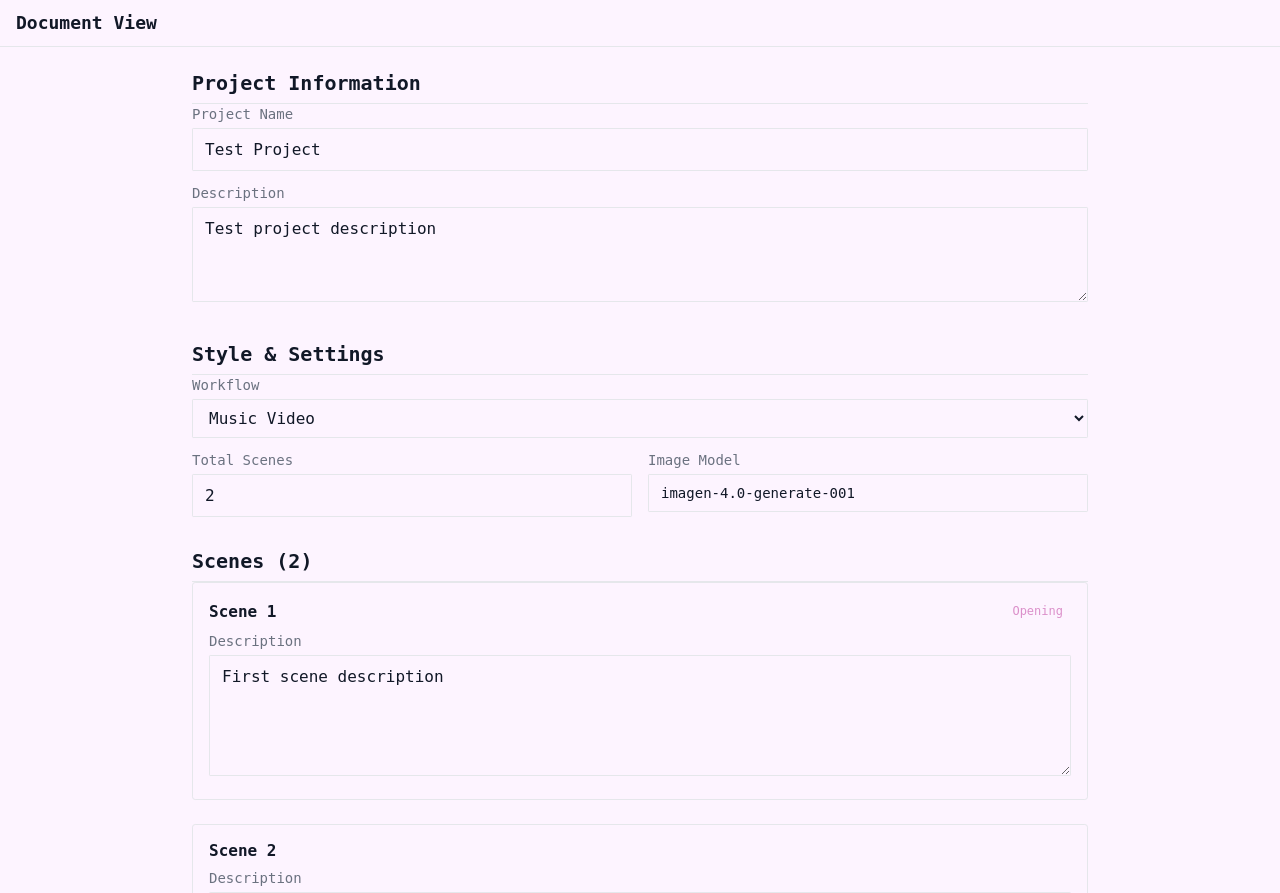
Test: DocumentView - Document Content Display › Standard text editing operations › should support paste operation
Clear the field labelled "Project Name". click: (640, 149)
box: left=192, top=128, right=1088, bottom=171
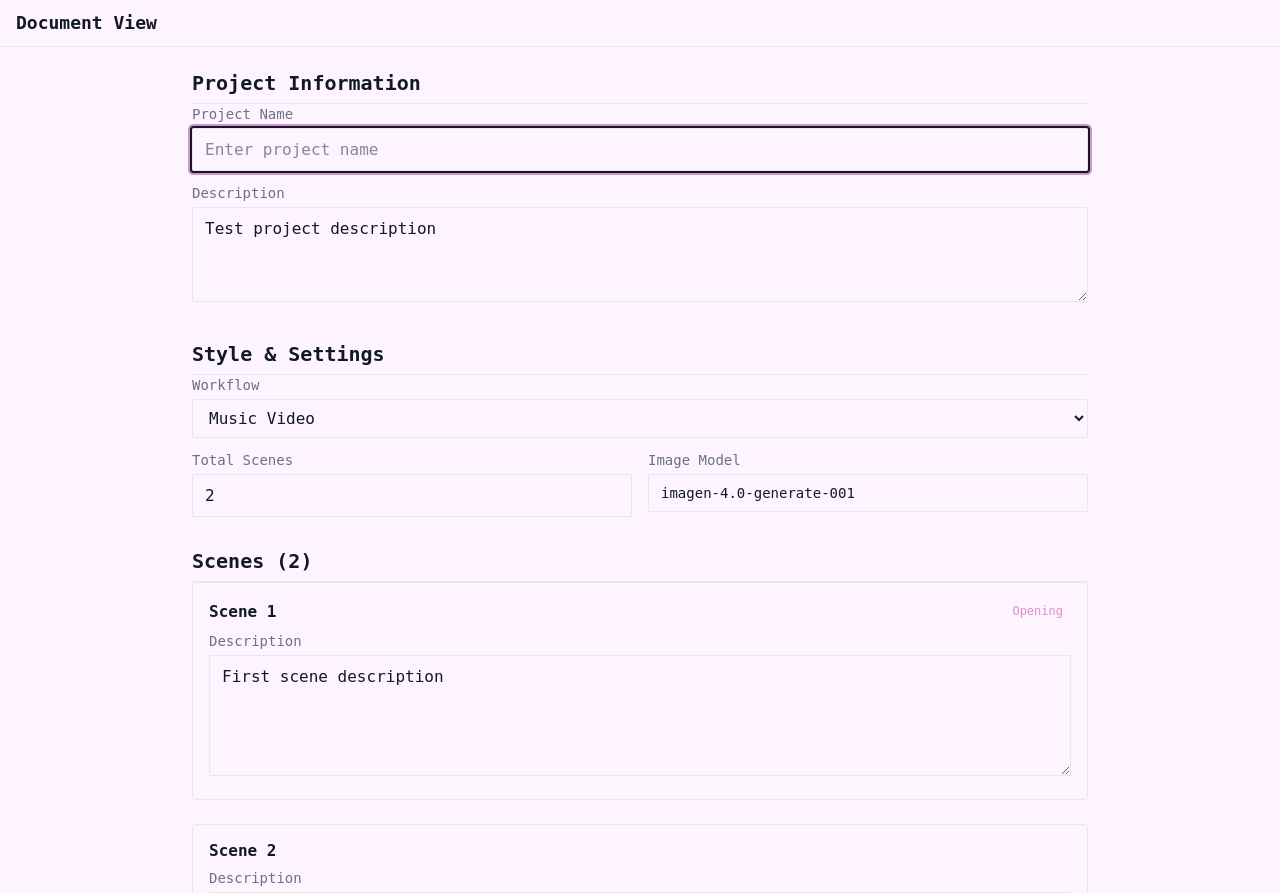
Type keys "Pasted Text"
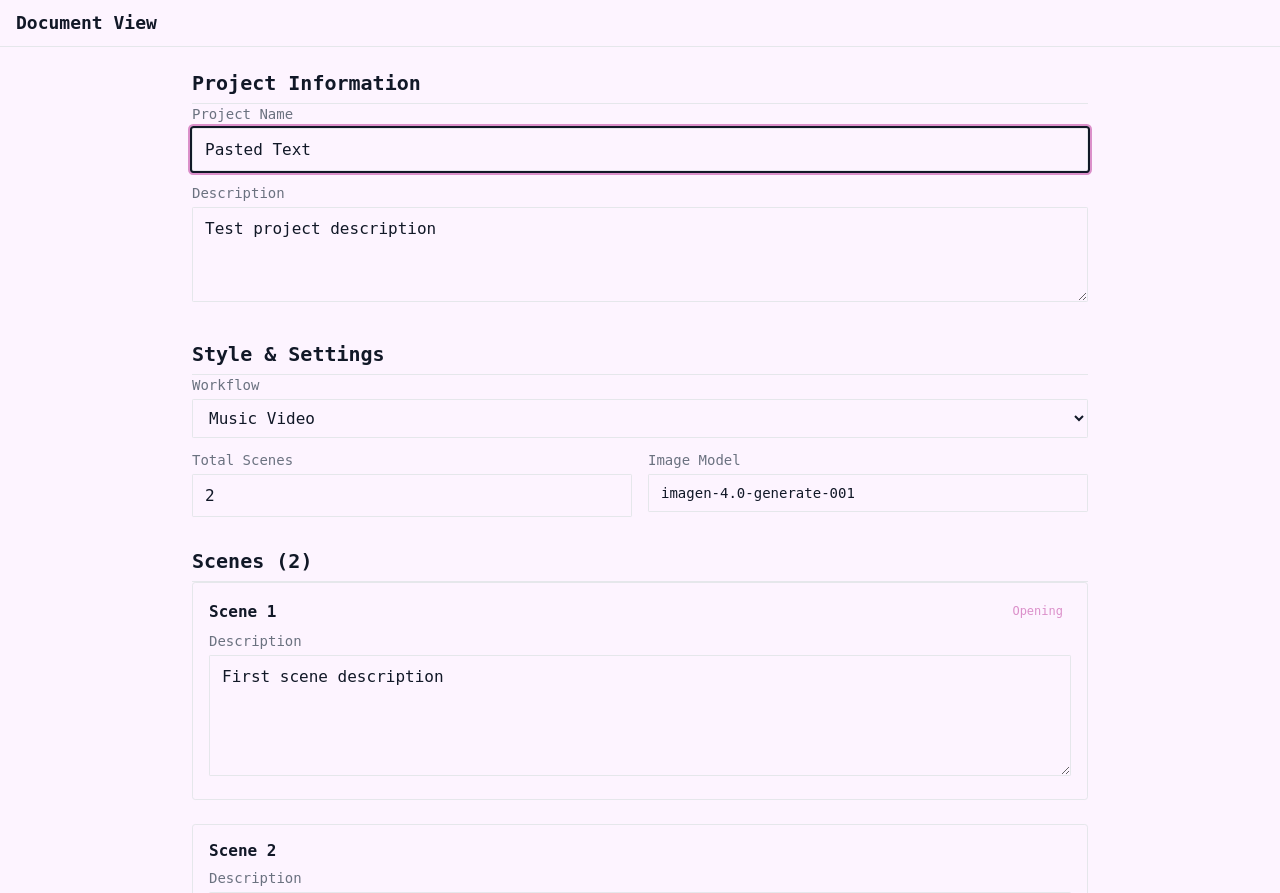
Expected: the field labelled "Project Name" holds "Pasted Text", left=192, top=128, right=1088, bottom=171
